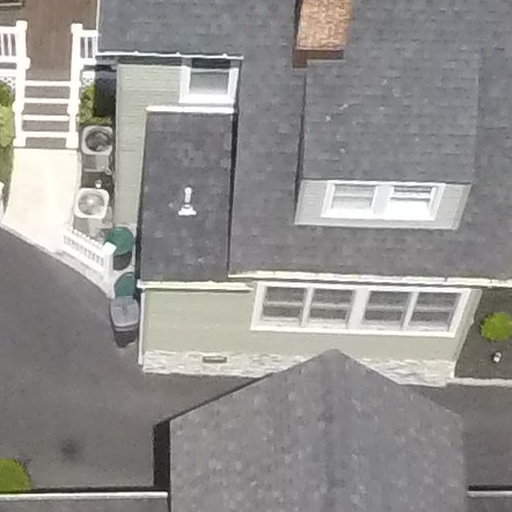air conditioner: (75, 125, 142, 188), (74, 183, 134, 228)
trash bin: (105, 293, 155, 348), (94, 224, 139, 268), (111, 273, 145, 302)
